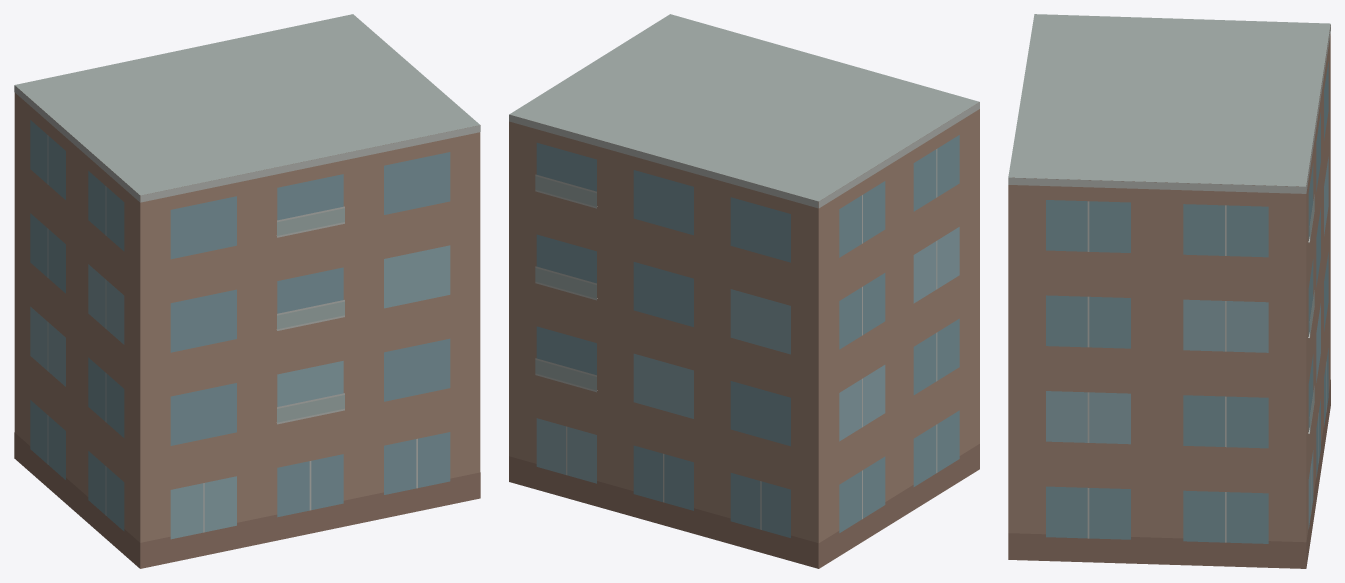
File: survey-upis-32816601.glb
3 renders of one model, left to right at view 1: azimuth 30°, elevation 25°; view 2: azimuth 150°, elevation 25°; view 3: azimuth 270°, elevation 25°, orthographic. The views are drawn at different scales.
Parts seen in each view (by area): view 1: survey-upis-32816601.tmp; view 2: survey-upis-32816601.tmp; view 3: survey-upis-32816601.tmp.
Boxes of the visible parts, box(x1,y1,x2,y2) form: survey-upis-32816601.tmp: box(14, 14, 480, 568); survey-upis-32816601.tmp: box(509, 14, 979, 568); survey-upis-32816601.tmp: box(1008, 14, 1330, 568).
Size of the model in its own units: 12.41 by 12.8 by 9.8.
